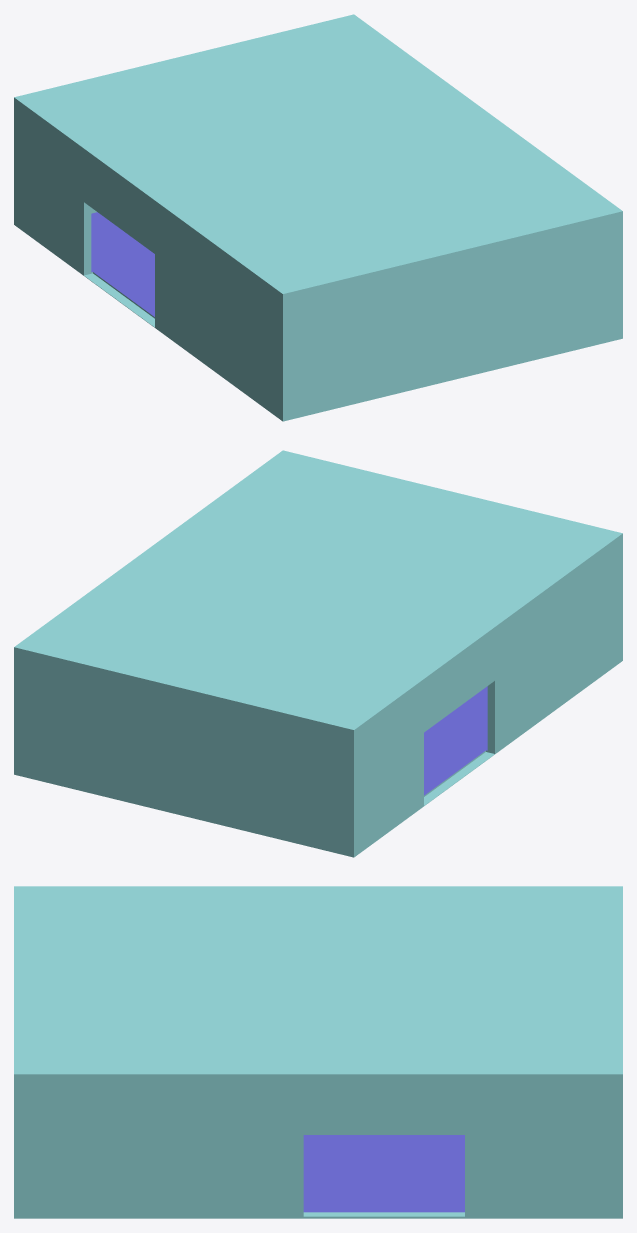
The model's file is menu_roof.fbx.
3 renders of one model, top to bottom at view 1: azimuth 30°, elevation 25°; view 2: azimuth 150°, elevation 25°; view 3: azimuth 270°, elevation 25°, orthographic. The views are drawn at different scales.
Parts seen in each view (by area): view 1: Cube; view 2: Cube; view 3: Cube.
Boxes of the visible parts, x1,y1,x2,y2 form: Cube: (14, 14, 622, 421); Cube: (14, 450, 622, 857); Cube: (14, 886, 622, 1218).
Size of the model in its own units: 3306 by 1184 by 4528.
